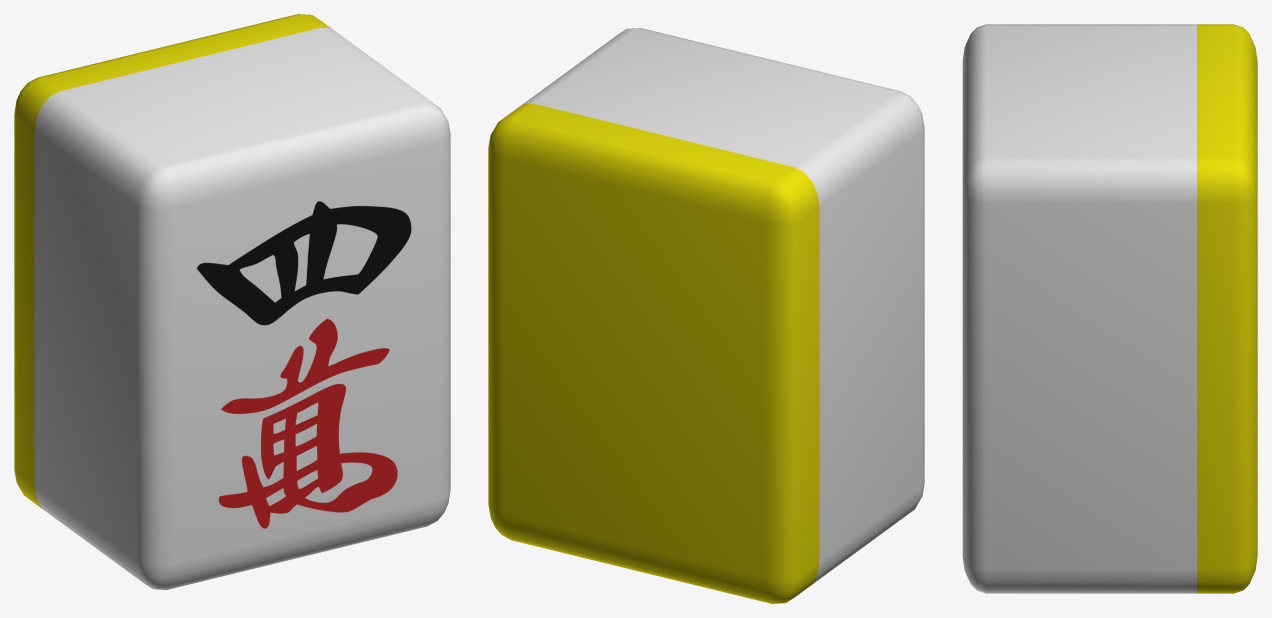
Rendered from manzu4.glb.
3 views of the same model, side by side, from view 1: azimuth 30°, elevation 25°; view 2: azimuth 150°, elevation 25°; view 3: azimuth 270°, elevation 25° (orthographic). The views are drawn at different scales.
Parts seen in each view (by area): view 1: Cube, Cube.001; view 2: Cube; view 3: Cube.
Part boxes in pixels (x1,y1,x2,y2): Cube: (14, 14, 450, 589); Cube.001: (197, 201, 411, 528); Cube: (488, 28, 924, 603); Cube: (962, 24, 1257, 593).
Size of the model in its own units: 2 by 2.6 by 1.6.
Materials: 3 (1 with a texture image).
